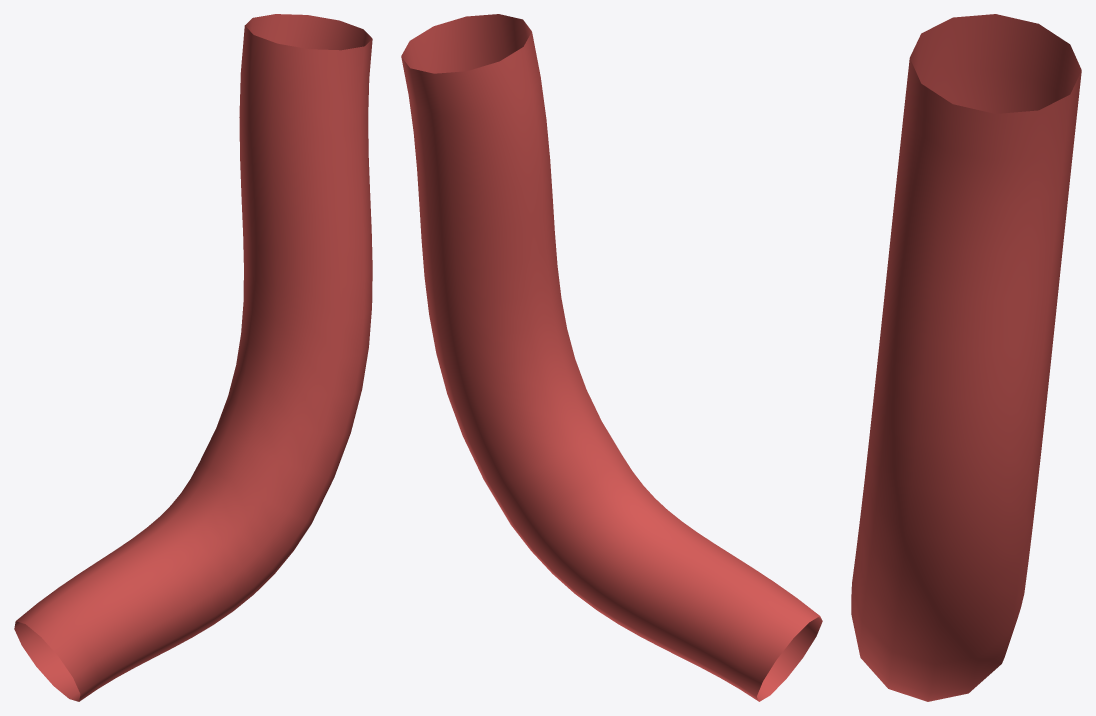
3 renders of one model, left to right at view 1: azimuth 30°, elevation 25°; view 2: azimuth 150°, elevation 25°; view 3: azimuth 270°, elevation 25°, orthographic. The views are drawn at different scales.
Parts seen in each view (by area): view 1: 胰十二指肠下动脉; view 2: 胰十二指肠下动脉; view 3: 胰十二指肠下动脉.
Boxes of the visible parts, bbox=[...] form: 胰十二指肠下动脉: bbox=[14, 14, 372, 701]; 胰十二指肠下动脉: bbox=[401, 14, 822, 701]; 胰十二指肠下动脉: bbox=[851, 14, 1081, 701].
Bounding box in the file's own units: 0.00956 × 0.015 × 0.00393.
